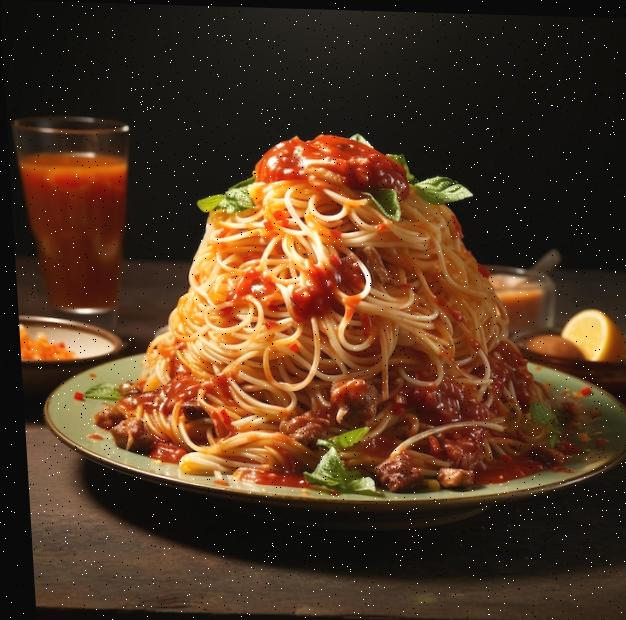pasta: (115, 135, 549, 490)
